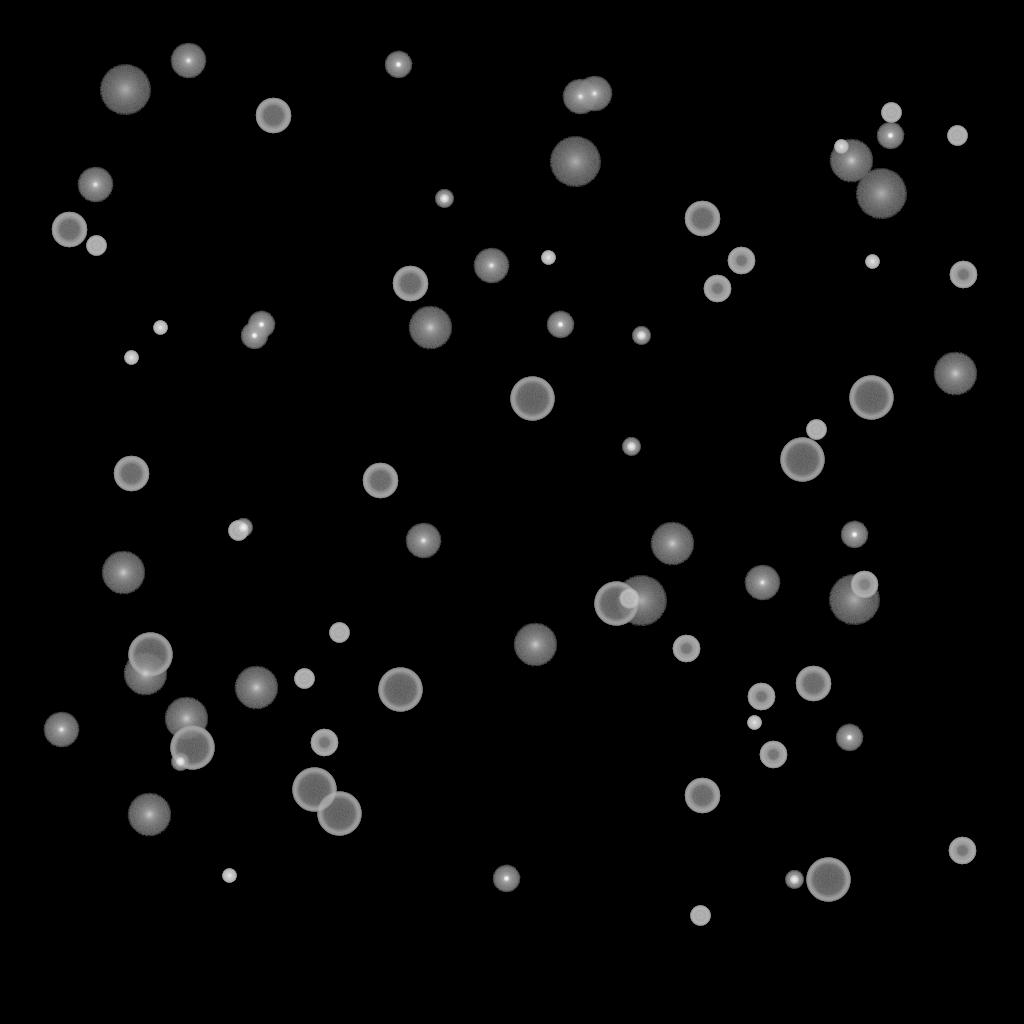depth:-10: (876, 122, 904, 150), (546, 311, 574, 339), (492, 865, 520, 893), (247, 311, 275, 339), (384, 51, 412, 79), (840, 521, 868, 549), (240, 322, 268, 350), (835, 724, 863, 752)
depth:-20: (785, 871, 803, 889), (632, 327, 650, 345), (435, 190, 453, 208), (234, 519, 252, 537), (171, 753, 189, 771), (622, 438, 640, 456)
depth:-30: (747, 716, 761, 730), (124, 351, 138, 365), (834, 140, 848, 154), (865, 255, 879, 269), (153, 321, 167, 335), (222, 869, 236, 883), (541, 251, 555, 265)
depth:-40: (86, 236, 106, 256), (947, 126, 967, 146), (619, 589, 639, 609), (881, 103, 901, 123), (690, 906, 710, 926), (329, 623, 349, 643), (228, 521, 248, 541), (806, 420, 826, 440), (294, 669, 314, 689)
depth:-50: (747, 683, 775, 711), (850, 571, 878, 599), (727, 247, 755, 275), (948, 837, 976, 865), (759, 741, 787, 769), (672, 635, 700, 663), (310, 729, 338, 757), (703, 275, 731, 303), (949, 261, 977, 289)
depth:-60: (113, 456, 149, 492), (255, 98, 291, 134), (684, 201, 720, 237), (51, 212, 87, 248), (795, 666, 831, 702), (392, 266, 428, 302), (362, 463, 398, 499), (684, 778, 720, 814)
depth:-70: (594, 582, 638, 626), (128, 633, 172, 677), (806, 858, 850, 902), (170, 726, 214, 770), (378, 668, 422, 712), (780, 438, 824, 482), (849, 376, 893, 420), (292, 768, 336, 812), (510, 377, 554, 421), (317, 792, 361, 836)
depth:0: (77, 167, 113, 203), (405, 523, 441, 559), (576, 76, 612, 112), (43, 712, 79, 748), (170, 43, 206, 79), (562, 79, 598, 115), (473, 248, 509, 284), (744, 565, 780, 601)
depth:10: (513, 623, 557, 667), (123, 652, 167, 696), (234, 666, 278, 710), (101, 551, 145, 595), (650, 522, 694, 566), (164, 697, 208, 741), (408, 306, 452, 350), (127, 793, 171, 837), (829, 139, 873, 183), (933, 352, 977, 396)
depth:20: (855, 169, 907, 219), (828, 575, 880, 625), (549, 137, 601, 187), (99, 65, 151, 115), (615, 576, 667, 626)
